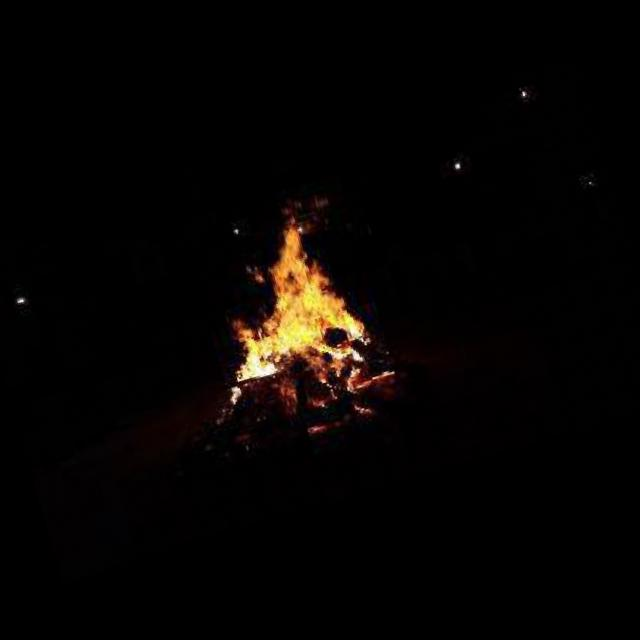fire: (179, 180, 404, 424), (347, 398, 371, 418), (307, 422, 330, 434)
